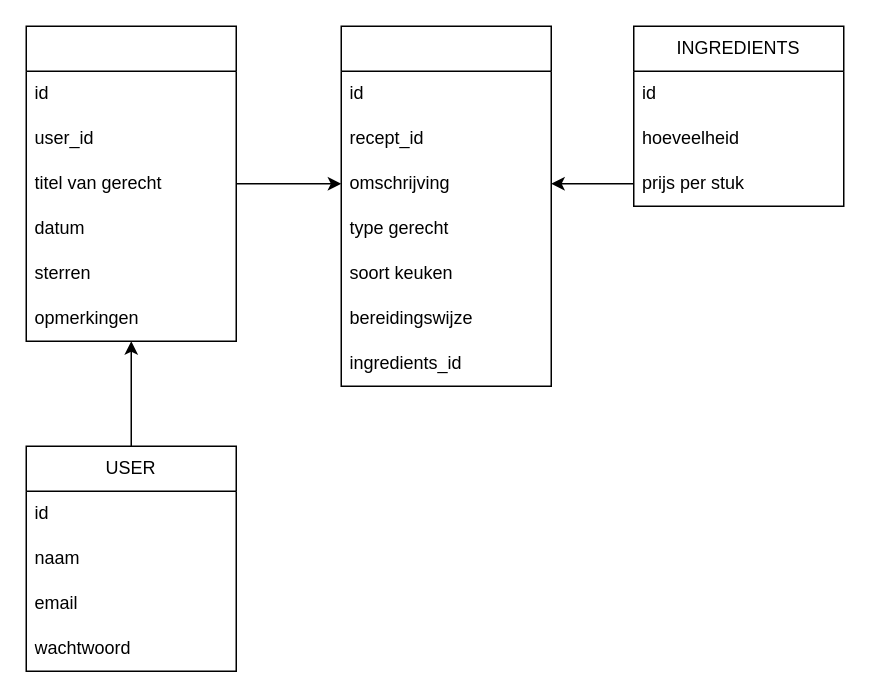
Some shapes in this 870 by 698 pixel diagram are drawn without their labels. Each missing label, with the box of its shape:
RECEPT: (25, 25, 236, 341)
RECEPT_DETAILS: (340, 25, 551, 386)
